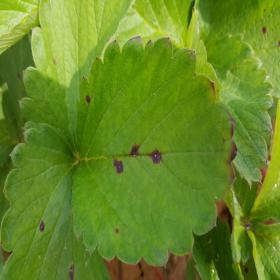Leaf Spot: (71, 36, 238, 269), (18, 0, 137, 159), (0, 123, 112, 279), (199, 0, 279, 98), (0, 31, 35, 142), (240, 253, 259, 279)
